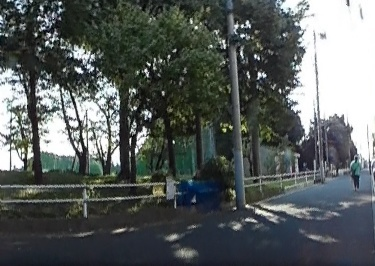person: (348, 153, 362, 189), (372, 154, 375, 184)
